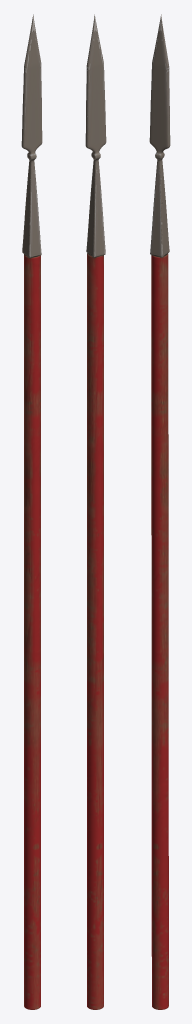
Rendered from Speer.dae.
3 renders of one model, left to right at view 1: azimuth 30°, elevation 25°; view 2: azimuth 210°, elevation 25°; view 3: azimuth 330°, elevation 25°, orthographic.
Visible parts, largest first — view 1: Speer_High; view 2: Speer_High; view 3: Speer_High.
Boxes of the visible parts, x1,y1,x2,y2 form: Speer_High: [21, 14, 42, 1009]; Speer_High: [85, 14, 106, 1009]; Speer_High: [149, 14, 170, 1009].
Bounding box in the file's own units: 0.0456 × 0.0352 × 2.2.
1 material, 1 textured.
